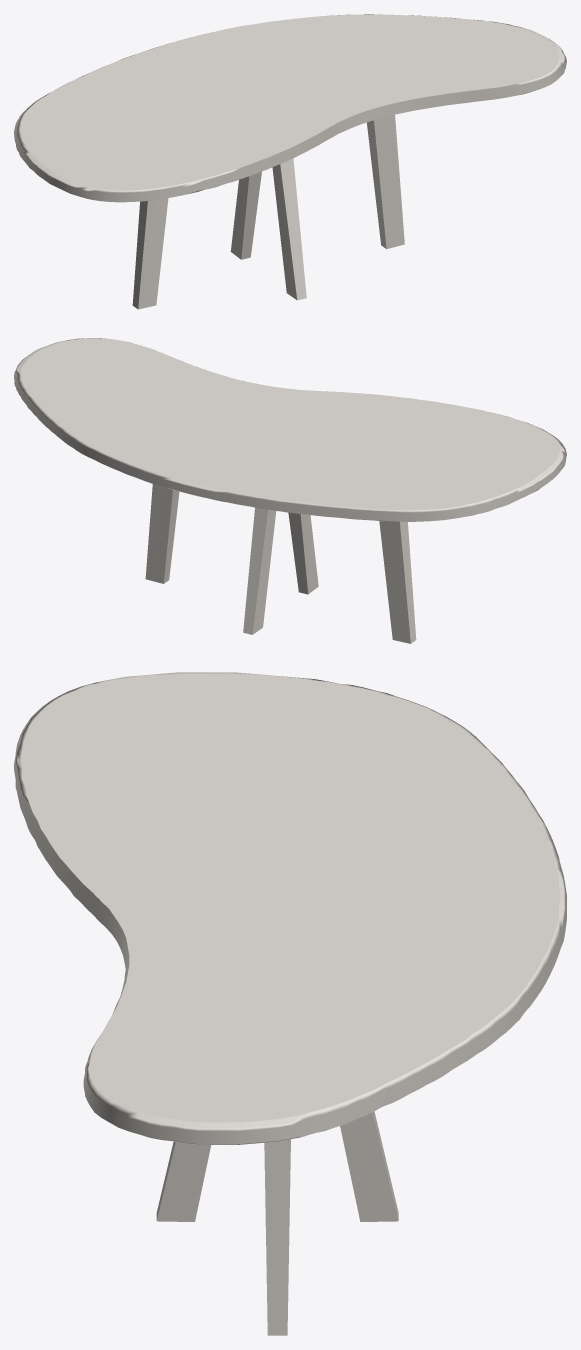
File: pearlwhite_leaf1_round_searwalnut.glb
The picture shows the model from 3 angles, top to bottom: view 1: azimuth 30°, elevation 25°; view 2: azimuth 150°, elevation 25°; view 3: azimuth 270°, elevation 25°; orthographic projection. The views are drawn at different scales.
Parts seen in each view (by area): view 1: round_leaf1, searwalnut; view 2: round_leaf1, searwalnut; view 3: round_leaf1, searwalnut.
Boxes of the visible parts, <box> form: round_leaf1: <box>14,14,566,202</box>; searwalnut: <box>132,114,404,309</box>; round_leaf1: <box>14,338,566,521</box>; searwalnut: <box>145,484,416,643</box>; round_leaf1: <box>14,672,566,1144</box>; searwalnut: <box>156,1111,398,1335</box>.
Size of the model in its own units: 7.49 by 2.5 by 3.8.
Materials: 1 (1 with a texture image).
